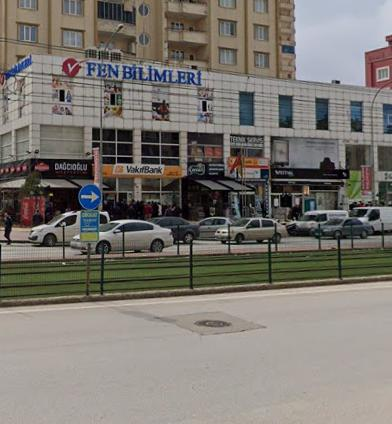turnright: (78, 184, 102, 210)
